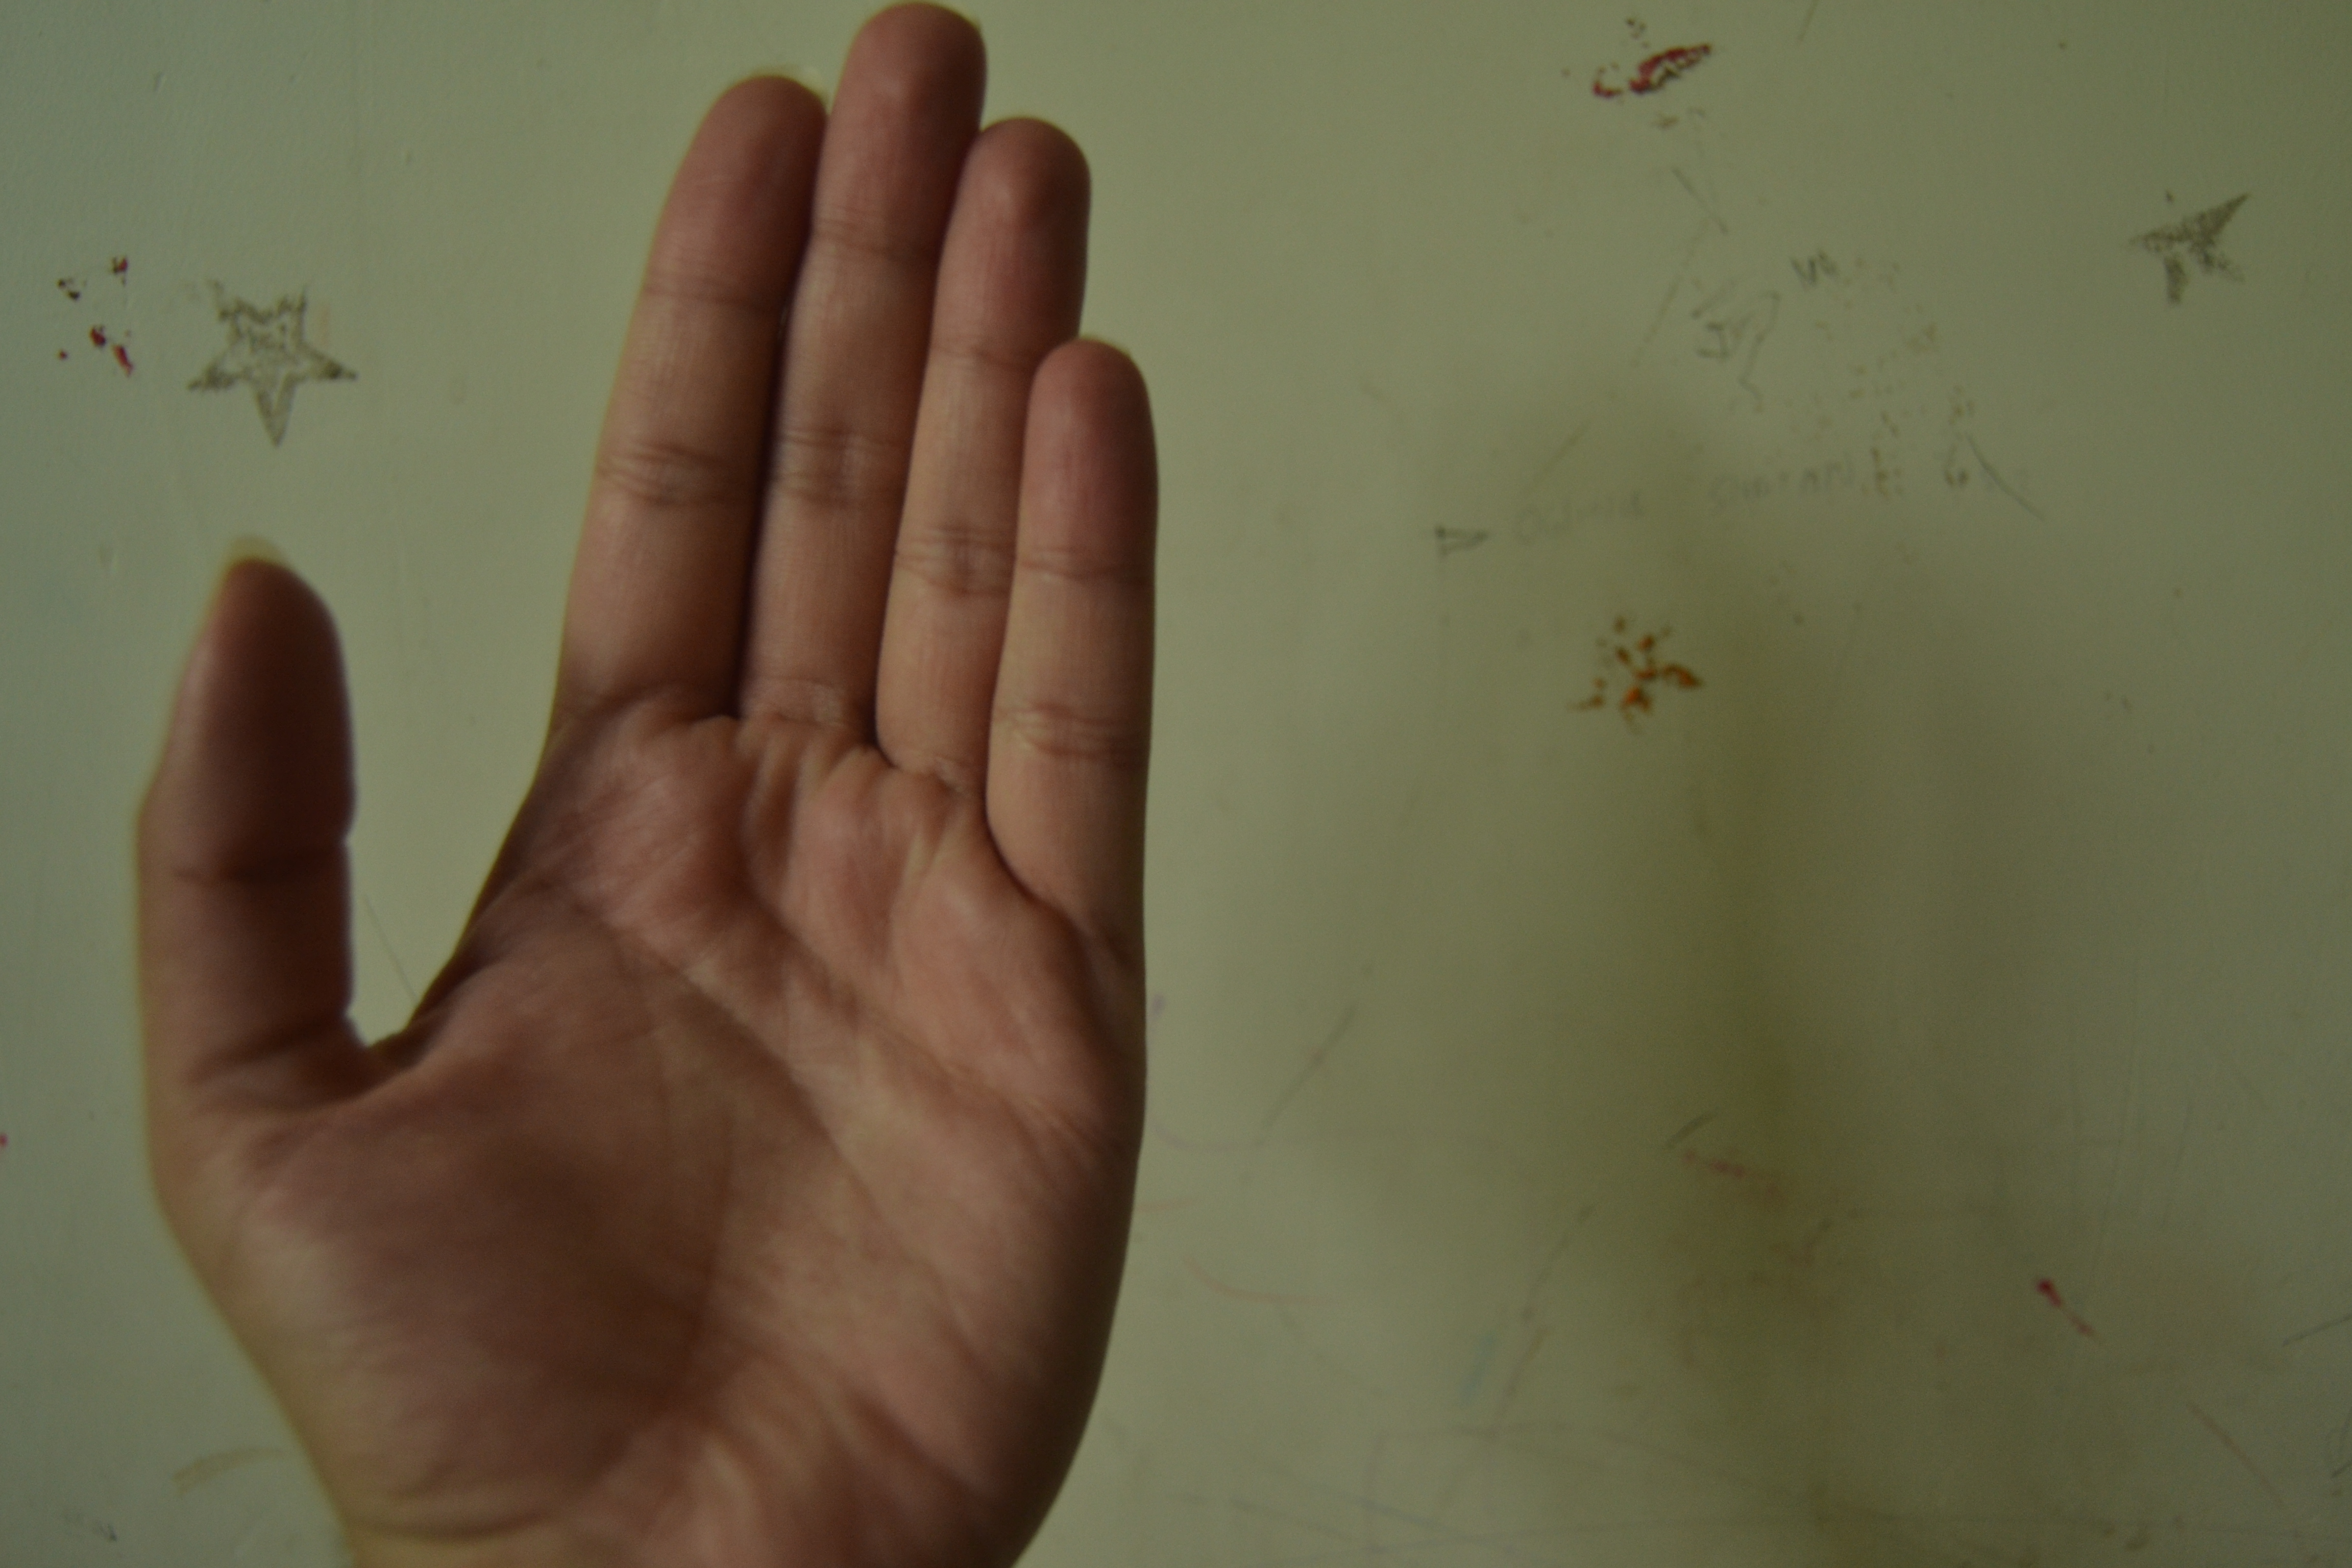move: (108, 33, 1295, 1493)
